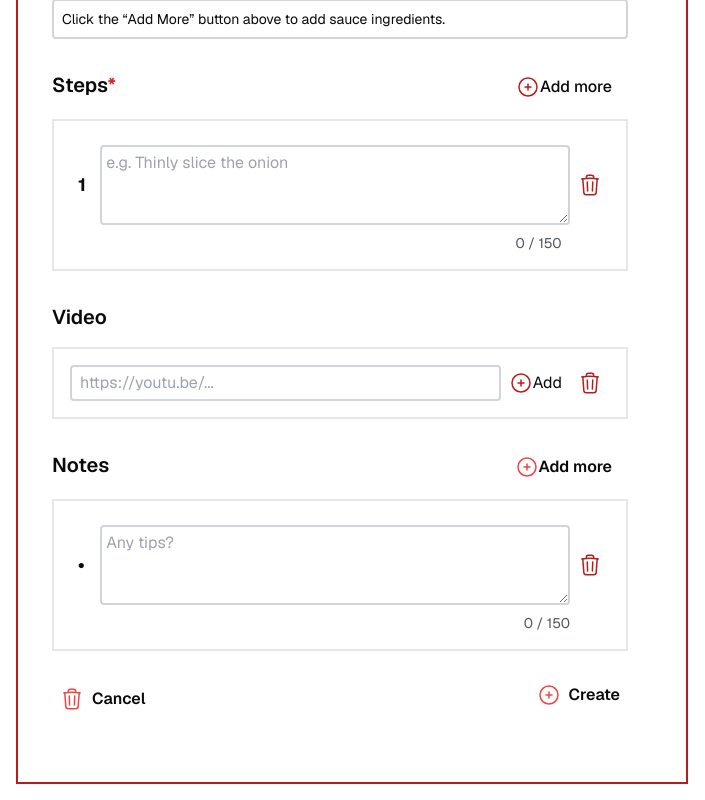
Scenario: RecipeForm › should display a validation error if name is empty
(page scrolled)
Click the button "Create" at (578, 699), box top-left (529, 683), bottom-right (628, 715)
(page scrolled)
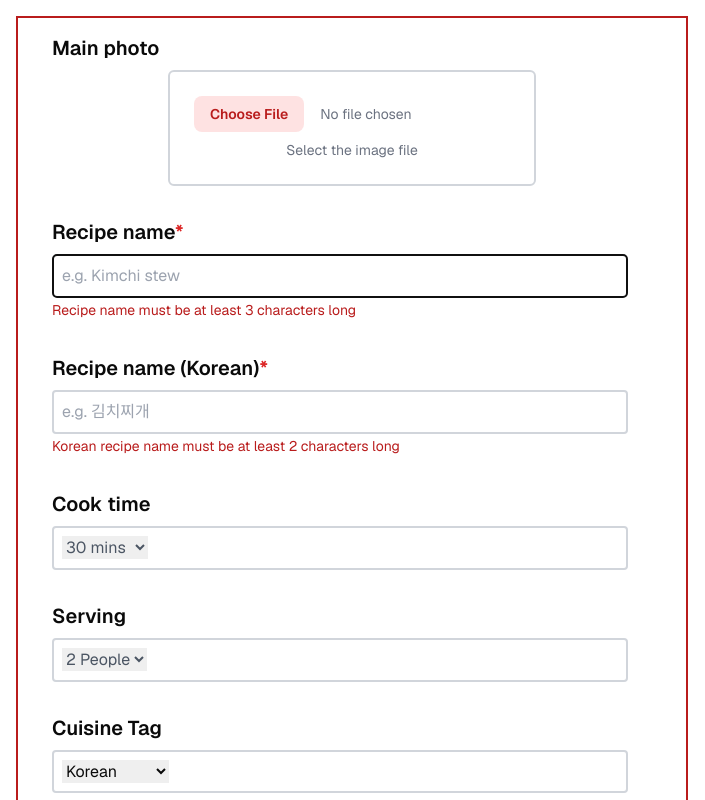
Now the text "Recipe name must be at least 3 characters long" is shown, box top-left (52, 301), bottom-right (356, 319)
